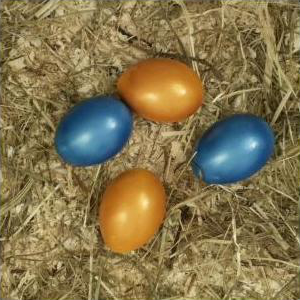egg: (191, 114, 276, 185), (97, 169, 167, 255), (116, 58, 205, 124), (54, 96, 134, 166)
